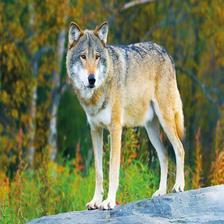WOLF: (66, 22, 189, 211)
